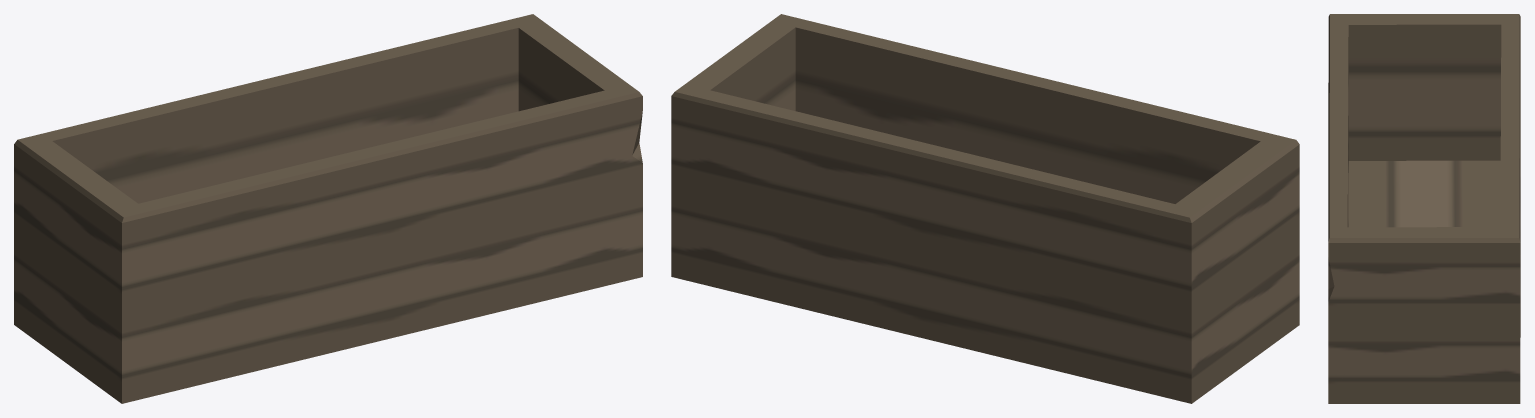
The model's file is SM_Prop_Crate_Wood_02.glb.
The picture shows the model from 3 angles, left to right: view 1: azimuth 30°, elevation 25°; view 2: azimuth 150°, elevation 25°; view 3: azimuth 270°, elevation 25°; orthographic projection. The views are drawn at different scales.
Visible parts, largest first — view 1: SM_Prop_Crate_Wood_02; view 2: SM_Prop_Crate_Wood_02; view 3: SM_Prop_Crate_Wood_02.
Part boxes in pixels (<box>): SM_Prop_Crate_Wood_02: <box>14,14,642,403</box>; SM_Prop_Crate_Wood_02: <box>671,14,1299,403</box>; SM_Prop_Crate_Wood_02: <box>1328,14,1520,403</box>.
Size of the model in its own units: 2.02 by 0.6853 by 0.7248.
Materials: 1 (1 with a texture image).
